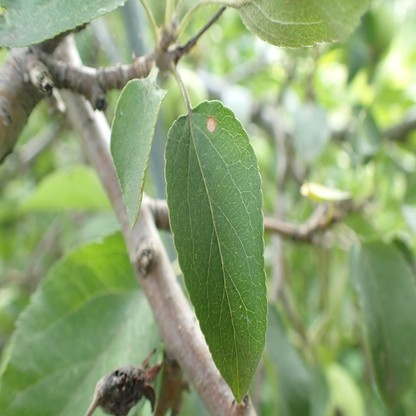frogeye_leaf_spot: (207, 116, 216, 132)
powdery_mildew: (0, 0, 62, 43)
